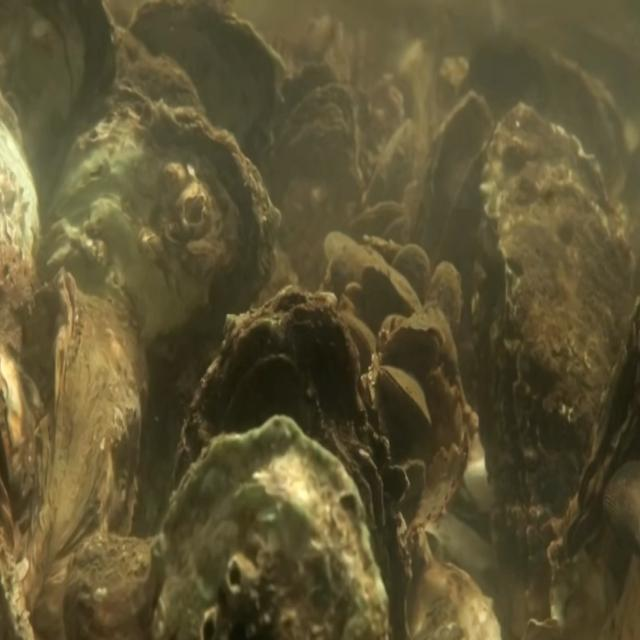Oyster-Closed: (48, 97, 282, 510), (177, 283, 409, 640), (470, 100, 630, 542), (150, 413, 388, 640), (377, 364, 431, 428), (384, 323, 446, 371)
Oyster-Indeterminate: (29, 264, 149, 640), (415, 88, 496, 319), (362, 259, 422, 313), (390, 241, 429, 313), (428, 260, 462, 335)
Oyster-Open: (260, 58, 356, 270)
